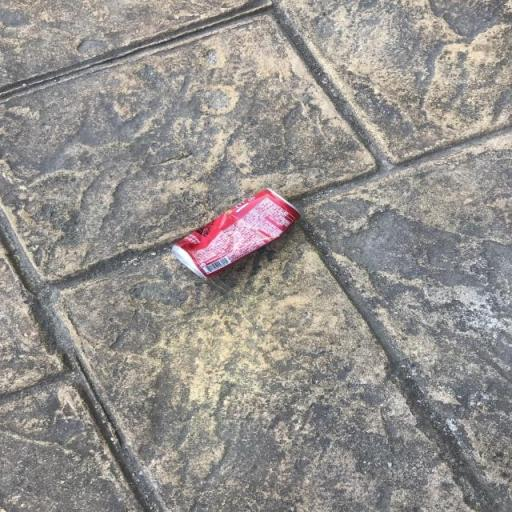metal: (159, 179, 316, 283)
